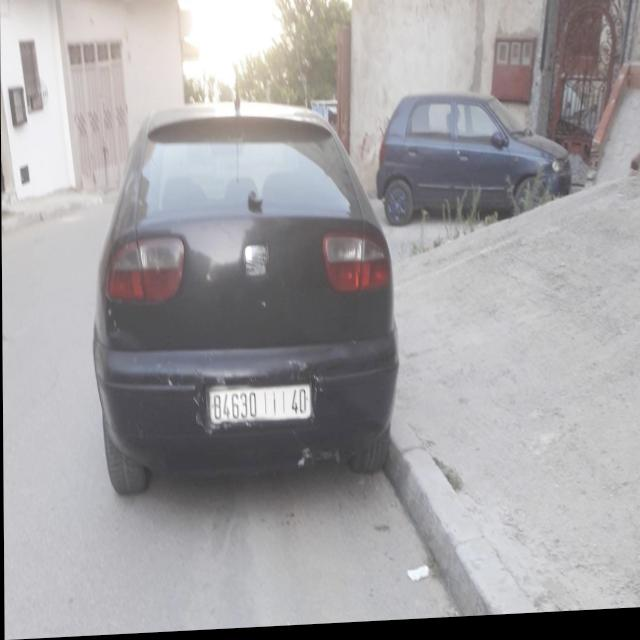License-Plate: (207, 388, 310, 428)
